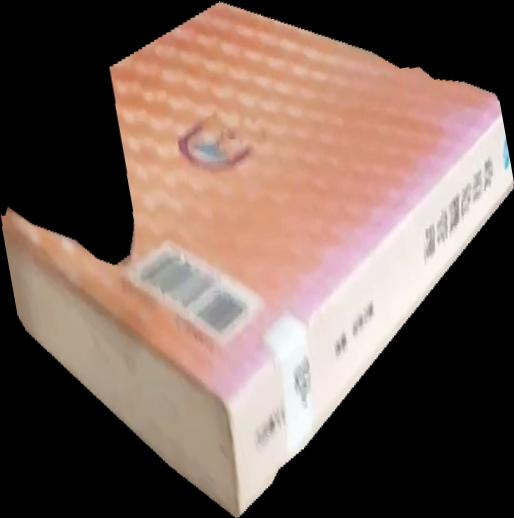flat: (1, 1, 514, 518)
